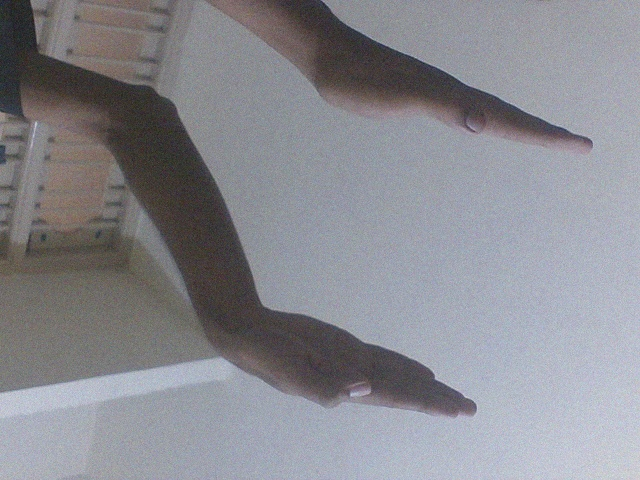hand: (314, 27, 594, 158), (210, 303, 478, 424)
